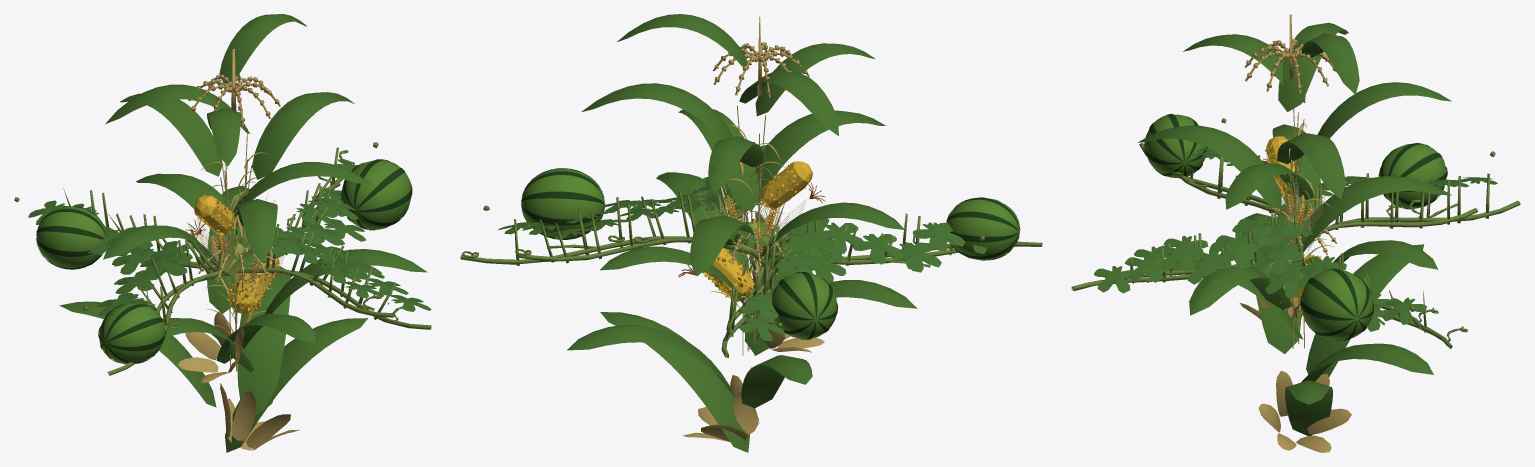
The model's file is CropLod.glb.
3 views of the same model, side by side, from view 1: azimuth 30°, elevation 25°; view 2: azimuth 150°, elevation 25°; view 3: azimuth 270°, elevation 25° (orthographic). The views are drawn at different scales.
Visible parts, largest first — view 1: Corn_Stage3_leaf_green, Corn_Stage5_leaf_green, Watermelon_Stage5_rind_light, Watermelon_Stage5_leaf_green, Corn_Stage5_husk_dry, Watermelon_Stage5_rind_stripe, Watermelon_Stage3_leaf_green, Watermelon_Stage3_vine_green, Watermelon_Stage5_vine_green, Corn_Stage5_kernel_gold, Wheat_Stage5_awn_straw, Wheat_Stage5_leaf_dry (+3 smaller); view 2: Corn_Stage3_leaf_green, Corn_Stage5_leaf_green, Watermelon_Stage5_rind_light, Watermelon_Stage5_leaf_green, Watermelon_Stage5_vine_green, Corn_Stage5_husk_dry, Watermelon_Stage5_rind_stripe, Watermelon_Stage3_vine_green, Watermelon_Stage3_leaf_green, Corn_Stage5_kernel_gold, Wheat_Stage5_awn_straw, Wheat_Stage5_leaf_dry; view 3: Corn_Stage5_leaf_green, Corn_Stage3_leaf_green, Watermelon_Stage5_leaf_green, Watermelon_Stage5_rind_light, Corn_Stage5_husk_dry, Watermelon_Stage5_vine_green, Watermelon_Stage5_rind_stripe, Watermelon_Stage3_vine_green, Watermelon_Stage3_leaf_green, Wheat_Stage5_awn_straw, Corn_Stage5_kernel_gold, Wheat_Stage5_leaf_dry (+1 smaller).
Boxes of the visible parts, bbox=[...] form: Corn_Stage3_leaf_green: bbox=[59, 14, 371, 452]; Corn_Stage5_leaf_green: bbox=[105, 84, 427, 415]; Watermelon_Stage5_rind_light: bbox=[36, 160, 411, 364]; Watermelon_Stage5_leaf_green: bbox=[28, 159, 431, 333]; Corn_Stage5_husk_dry: bbox=[178, 49, 299, 450]; Watermelon_Stage5_rind_stripe: bbox=[36, 159, 412, 363]; Watermelon_Stage3_leaf_green: bbox=[84, 189, 383, 308]; Watermelon_Stage3_vine_green: bbox=[102, 176, 394, 333]; Watermelon_Stage5_vine_green: bbox=[14, 142, 431, 375]; Corn_Stage5_kernel_gold: bbox=[193, 194, 279, 314]; Wheat_Stage5_awn_straw: bbox=[187, 190, 283, 297]; Wheat_Stage5_leaf_dry: bbox=[201, 152, 278, 343]; Corn_Stage3_leaf_green: bbox=[600, 14, 904, 452]; Corn_Stage5_leaf_green: bbox=[567, 71, 917, 396]; Watermelon_Stage5_rind_light: bbox=[521, 168, 1019, 339]; Watermelon_Stage5_leaf_green: bbox=[498, 145, 1001, 341]; Watermelon_Stage5_vine_green: bbox=[460, 141, 1042, 357]; Corn_Stage5_husk_dry: bbox=[683, 16, 824, 441]; Watermelon_Stage5_rind_stripe: bbox=[521, 168, 1020, 339]; Watermelon_Stage3_vine_green: bbox=[515, 174, 953, 336]; Watermelon_Stage3_leaf_green: bbox=[548, 188, 956, 318]; Corn_Stage5_kernel_gold: bbox=[702, 161, 812, 302]; Wheat_Stage5_awn_straw: bbox=[696, 187, 806, 272]; Wheat_Stage5_leaf_dry: bbox=[710, 124, 785, 324]; Corn_Stage5_leaf_green: bbox=[1138, 22, 1451, 404]; Corn_Stage3_leaf_green: bbox=[1155, 33, 1451, 435]; Watermelon_Stage5_leaf_green: bbox=[1094, 148, 1497, 331]; Watermelon_Stage5_rind_light: bbox=[1145, 114, 1446, 340]; Corn_Stage5_husk_dry: bbox=[1239, 14, 1351, 452]; Watermelon_Stage5_vine_green: bbox=[1071, 118, 1520, 348]; Watermelon_Stage5_rind_stripe: bbox=[1144, 114, 1447, 341]; Watermelon_Stage3_vine_green: bbox=[1123, 155, 1477, 328]; Watermelon_Stage3_leaf_green: bbox=[1134, 152, 1457, 316]; Wheat_Stage5_awn_straw: bbox=[1258, 168, 1331, 268]; Corn_Stage5_kernel_gold: bbox=[1265, 136, 1322, 301]; Wheat_Stage5_leaf_dry: bbox=[1265, 123, 1334, 322].
Size of the model in its own units: 1.77 by 1.73 by 1.66.
